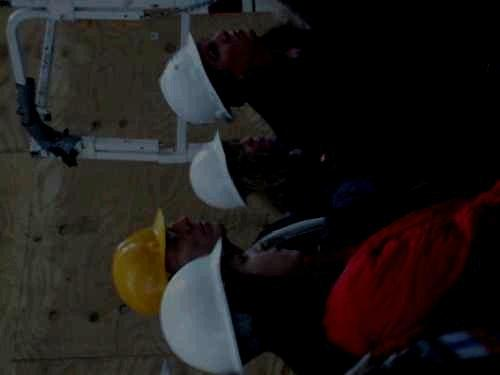helmet: (159, 236, 303, 375), (110, 206, 226, 321), (158, 26, 258, 124), (188, 127, 275, 211)
